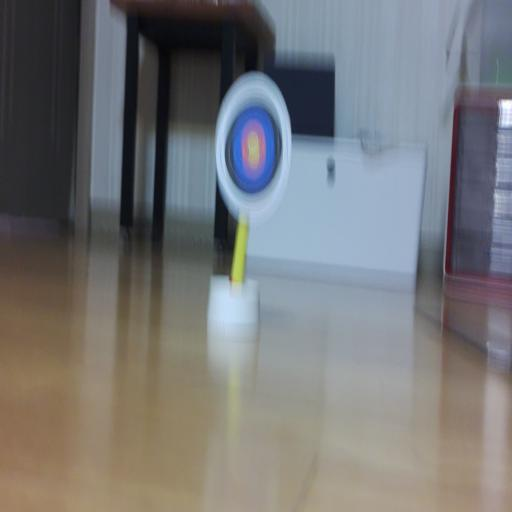target: (216, 72, 291, 223)
